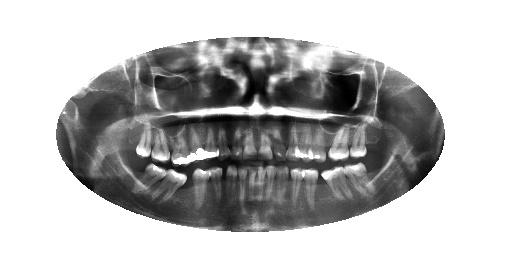Cavity: (269, 122, 288, 163), (241, 120, 258, 162), (257, 121, 274, 162)
Fillings: (151, 169, 188, 204), (321, 166, 355, 201), (132, 163, 168, 194), (301, 167, 321, 211), (327, 122, 350, 159), (133, 119, 154, 159), (350, 118, 370, 158), (188, 126, 207, 164), (168, 133, 190, 165), (297, 123, 315, 161), (208, 125, 220, 161)
